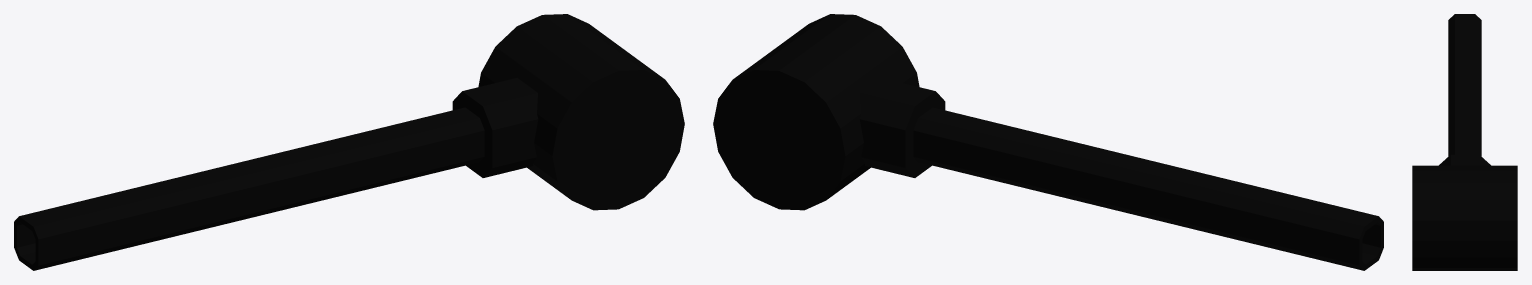
Rendered from BTR82A Gun.obj.
The picture shows the model from 3 angles, left to right: view 1: azimuth 30°, elevation 25°; view 2: azimuth 150°, elevation 25°; view 3: azimuth 270°, elevation 25°; orthographic projection. The views are drawn at different scales.
Visible parts, largest first — view 1: BTR82A_Gun_Cylinder.001; view 2: BTR82A_Gun_Cylinder.001; view 3: BTR82A_Gun_Cylinder.001.
Boxes of the visible parts, x1,y1,x2,y2 form: BTR82A_Gun_Cylinder.001: (14,14,684,270); BTR82A_Gun_Cylinder.001: (713,14,1383,270); BTR82A_Gun_Cylinder.001: (1412,14,1517,270).
Bounding box in the file's own units: 3.54 × 0.756 × 0.756.
